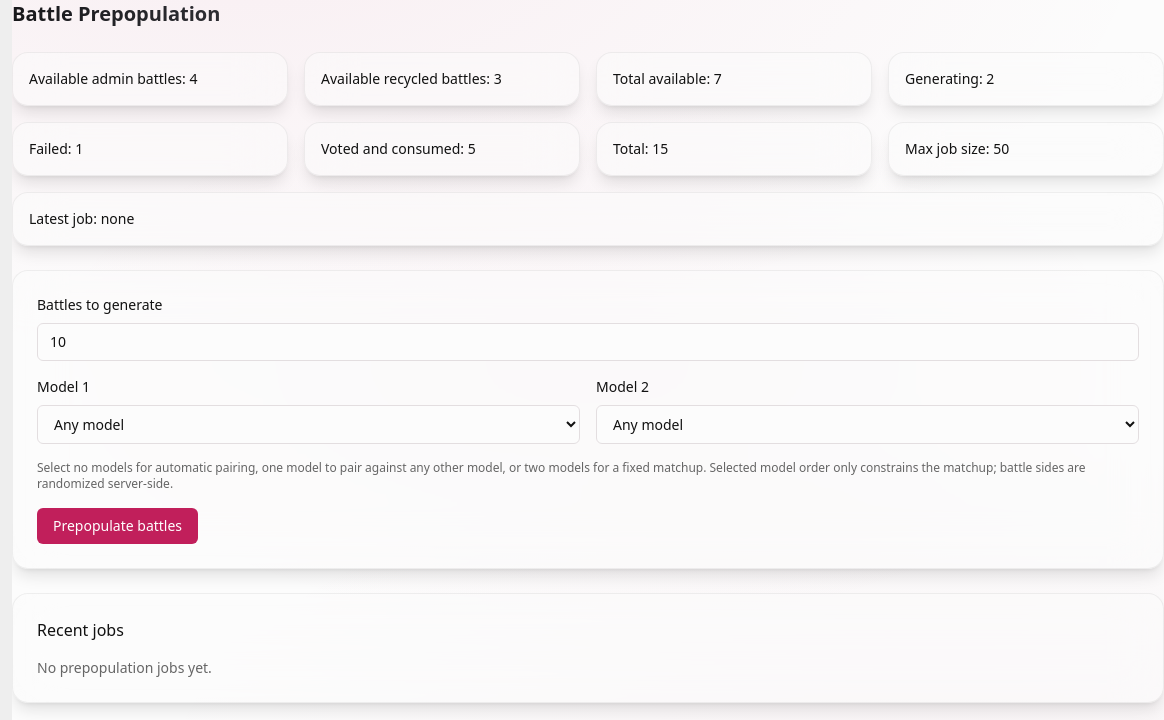
Test: AdminBattlePrepopulationRoute › submits a requested amount to create a prepopulation job
Expected: the text "Total available: 7" is shown, [613,69,722,88]
Replace the text in the number field labelled "Battles to generate" with "12" at [588, 342], box [37,323,1139,361]
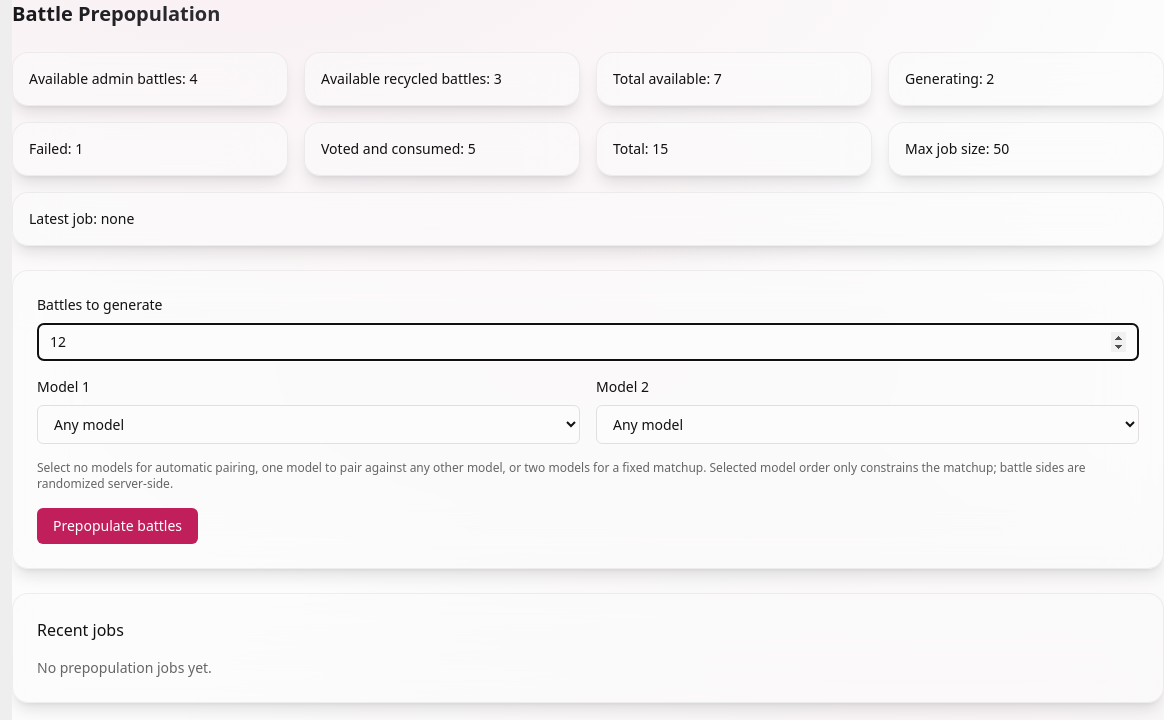
Click the button "Prepopulate battles".
click(118, 526)  # box [37,508,198,544]
(page scrolled)
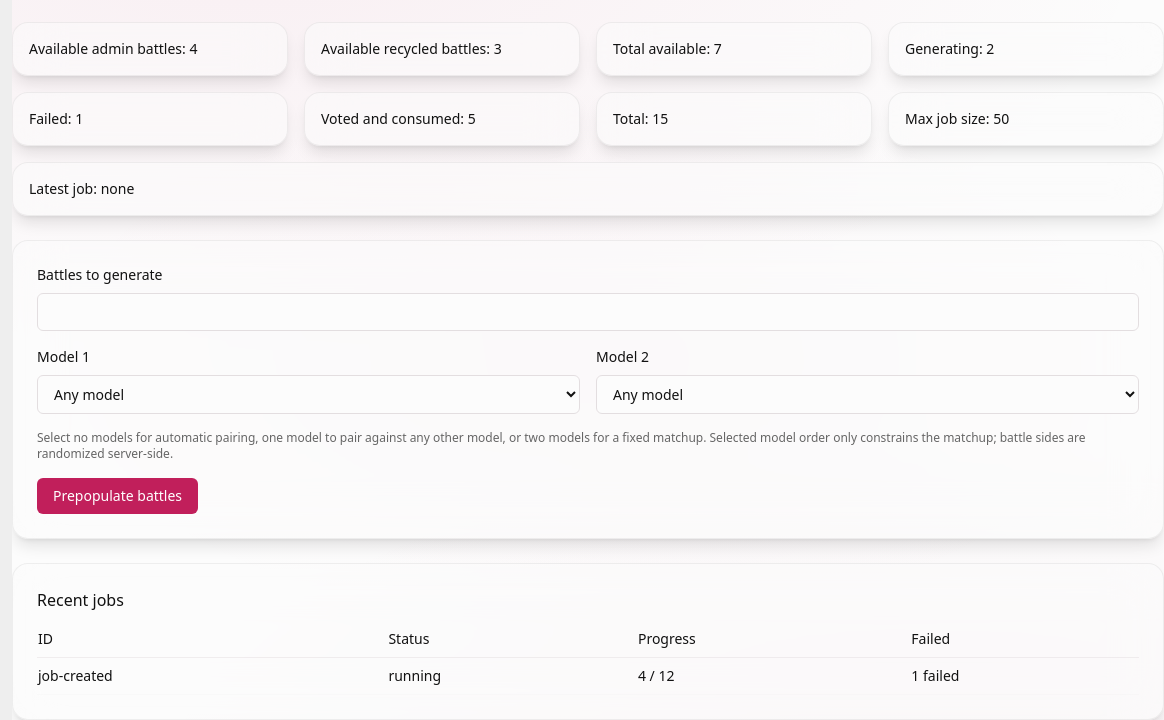
Expected: the text "job-created" is shown, [37,658,387,694]
